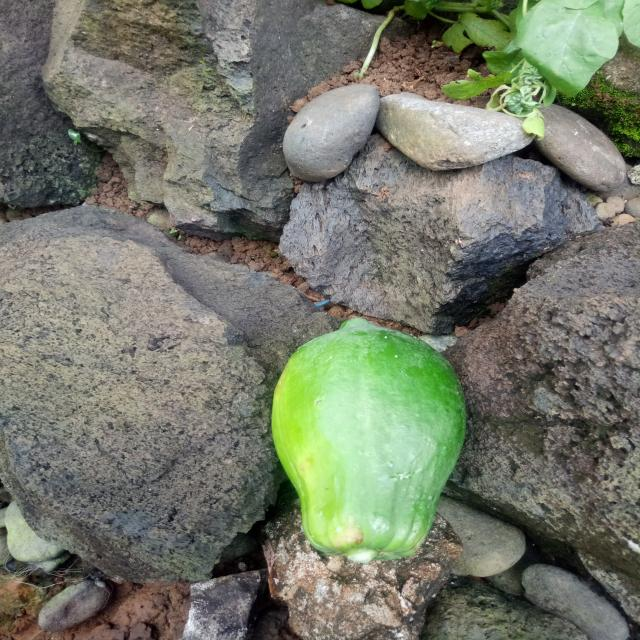Pepaya unrippen: (266, 316, 474, 557)
